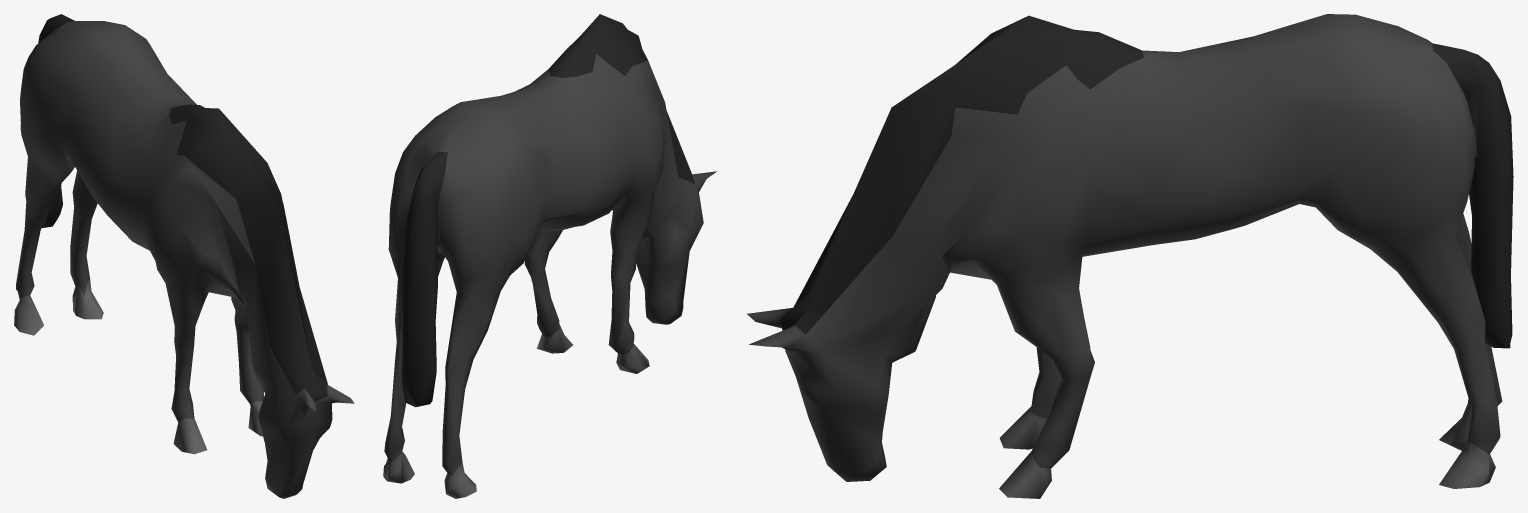
Rendered from horse_004.glb.
3 views of the same model, side by side, from view 1: azimuth 30°, elevation 25°; view 2: azimuth 150°, elevation 25°; view 3: azimuth 270°, elevation 25° (orthographic). The views are drawn at different scales.
Visible parts, largest first — view 1: horse_004; view 2: horse_004; view 3: horse_004.
Boxes of the visible parts, bbox=[...] form: horse_004: bbox=[14, 14, 354, 498]; horse_004: bbox=[383, 14, 716, 498]; horse_004: bbox=[746, 14, 1513, 498].
Size of the model in its own units: 0.6766 by 1.79 by 2.68.
1 material, 1 textured.
